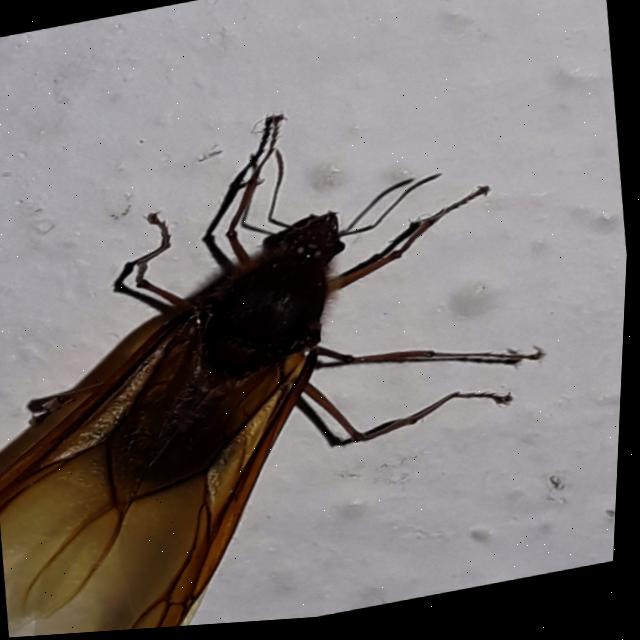Alive-Male-Alate: (0, 70, 583, 640)
